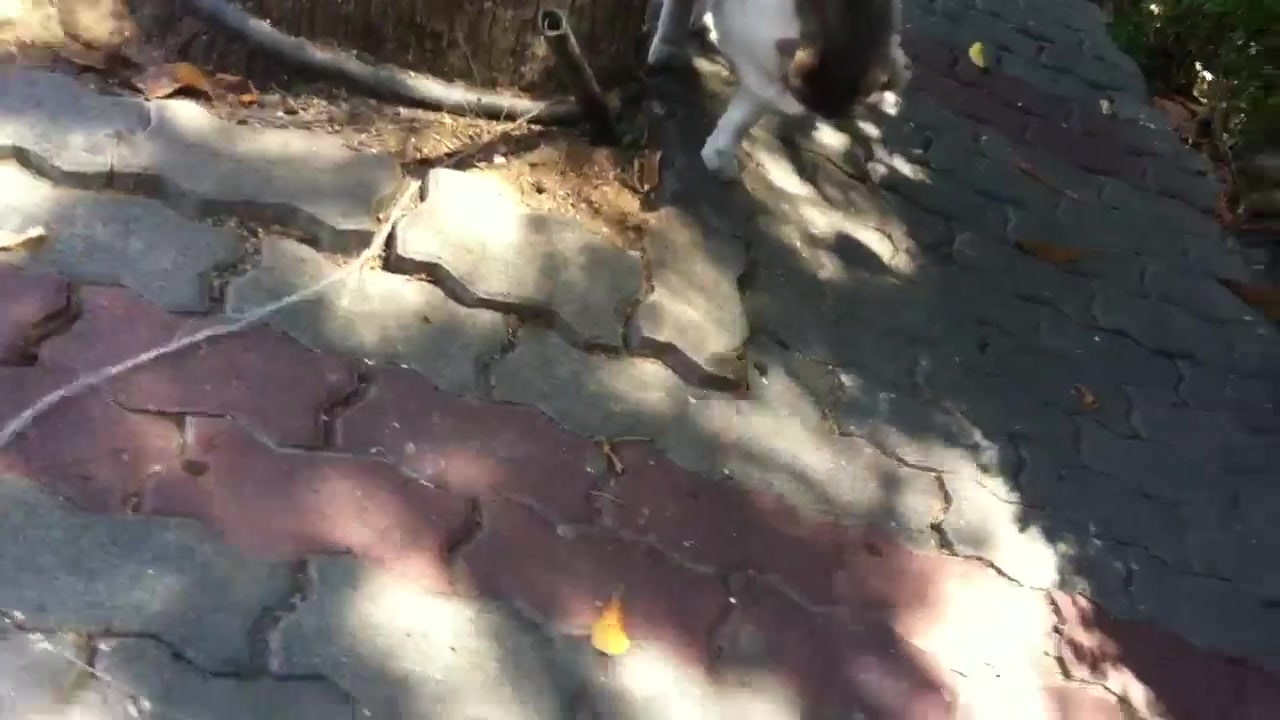cat: (650, 1, 898, 182)
